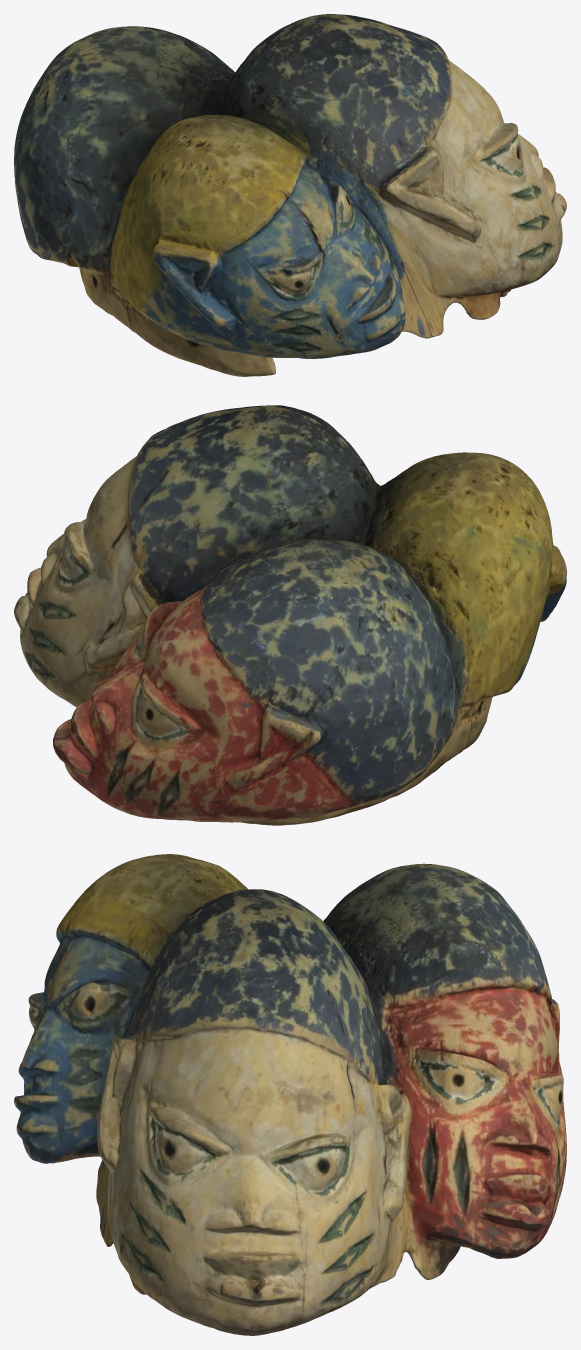
The model's file is preview.glb.
3 views of the same model, one above another, from view 1: azimuth 30°, elevation 25°; view 2: azimuth 150°, elevation 25°; view 3: azimuth 270°, elevation 25° (orthographic). The views are drawn at different scales.
Parts seen in each view (by area): view 1: MAR_MUM_APC_00115_Model_MAR_MUM_APC_00115_Base_0; view 2: MAR_MUM_APC_00115_Model_MAR_MUM_APC_00115_Base_0; view 3: MAR_MUM_APC_00115_Model_MAR_MUM_APC_00115_Base_0.
Boxes of the visible parts, box(x1,y1,x2,y2) form: MAR_MUM_APC_00115_Model_MAR_MUM_APC_00115_Base_0: box(14, 14, 566, 376); MAR_MUM_APC_00115_Model_MAR_MUM_APC_00115_Base_0: box(14, 405, 566, 825); MAR_MUM_APC_00115_Model_MAR_MUM_APC_00115_Base_0: box(14, 854, 566, 1335).
Bounding box in the file's own units: 0.014 × 0.00861 × 0.0127.
1 material, 1 textured.
